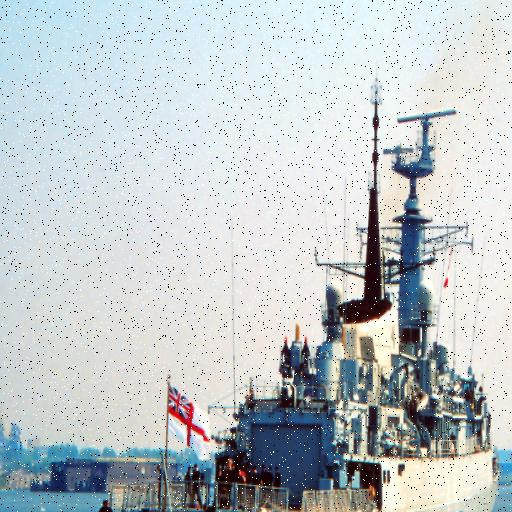Fragata: (82, 61, 502, 512)
